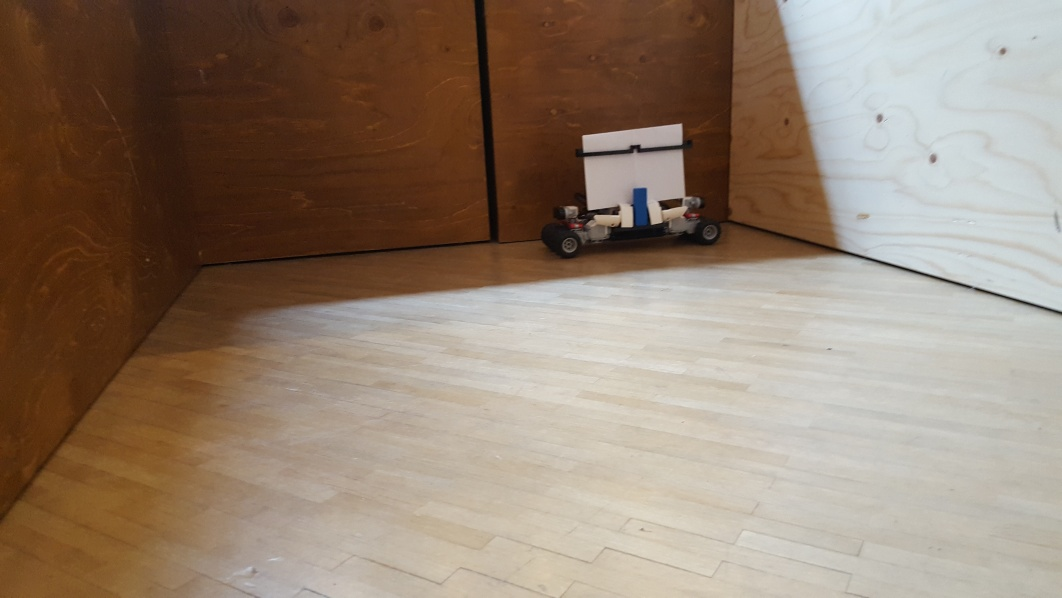beam: (631, 186, 649, 231)
